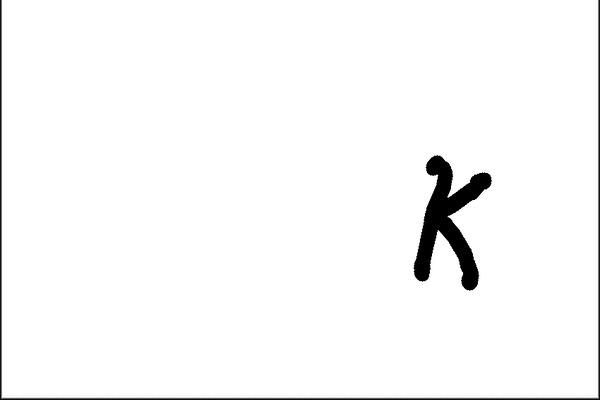K: (405, 148, 496, 289)
